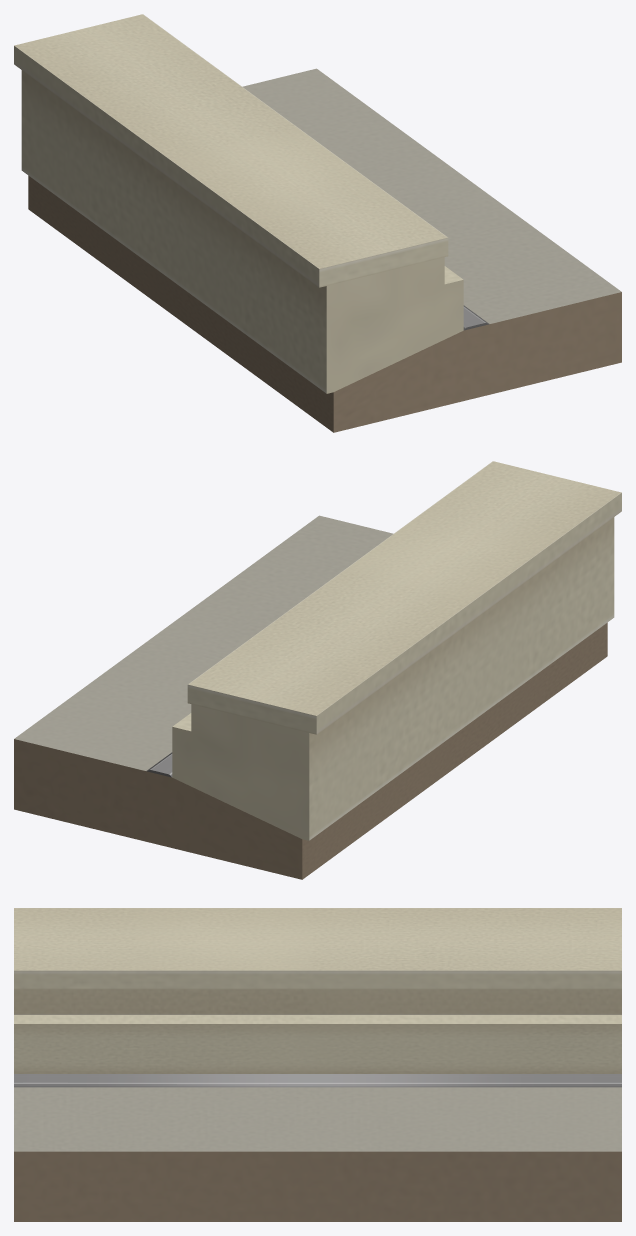
Rendered from set_roof_outside_b01.fbx.
3 views of the same model, one above another, from view 1: azimuth 30°, elevation 25°; view 2: azimuth 150°, elevation 25°; view 3: azimuth 270°, elevation 25° (orthographic).
Visible parts, largest first — view 1: set_roof_outside_b01; view 2: set_roof_outside_b01; view 3: set_roof_outside_b01.
Part boxes in pixels (left/top/right/bottom): set_roof_outside_b01: left=14, top=14, right=621, bottom=432; set_roof_outside_b01: left=14, top=461, right=621, bottom=879; set_roof_outside_b01: left=14, top=908, right=621, bottom=1221.
Size of the model in its own units: 229 by 121 by 400.
